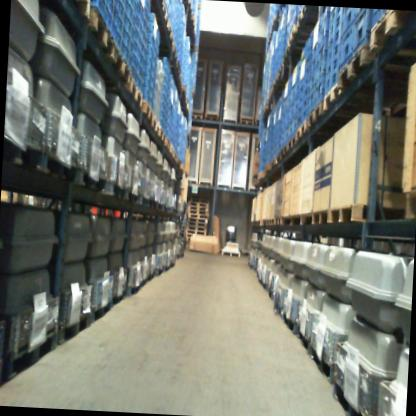pallet: (3, 327, 58, 385), (328, 201, 403, 227), (336, 42, 376, 89), (84, 5, 117, 58), (2, 134, 45, 174), (369, 8, 408, 50), (331, 378, 373, 416), (57, 308, 91, 352), (43, 152, 81, 184), (307, 343, 335, 383), (79, 164, 111, 193), (111, 44, 132, 83), (322, 81, 345, 112), (122, 77, 143, 106), (287, 23, 310, 47), (90, 299, 112, 324), (307, 100, 327, 127), (296, 5, 318, 27), (280, 309, 297, 335), (295, 325, 310, 353), (403, 189, 416, 221), (139, 99, 155, 122), (70, 0, 90, 18), (110, 180, 127, 199), (295, 119, 310, 140), (111, 287, 126, 308), (312, 208, 329, 225), (126, 279, 142, 296), (126, 188, 141, 205), (160, 3, 170, 28), (221, 245, 240, 257), (150, 116, 161, 136), (166, 22, 175, 46), (282, 46, 292, 64), (287, 134, 297, 149), (279, 143, 288, 159), (273, 301, 282, 317), (175, 60, 182, 79), (185, 225, 207, 231), (187, 201, 208, 207), (187, 205, 208, 211), (187, 213, 208, 219), (187, 217, 208, 223), (185, 229, 206, 235), (190, 197, 210, 203), (171, 44, 178, 61), (187, 209, 209, 214), (186, 221, 207, 226), (277, 61, 283, 77), (163, 137, 170, 150), (239, 119, 254, 125), (181, 84, 187, 99), (160, 128, 166, 142), (273, 216, 282, 225), (264, 162, 272, 172), (168, 144, 175, 155), (204, 116, 219, 121), (270, 157, 277, 167), (257, 171, 265, 179), (191, 114, 202, 119), (186, 103, 190, 115), (187, 179, 196, 184), (268, 218, 274, 225), (179, 163, 184, 171), (176, 158, 181, 166), (172, 153, 177, 161), (159, 0, 164, 6), (185, 233, 192, 237), (254, 121, 259, 126), (265, 218, 269, 224), (185, 240, 189, 245), (185, 244, 189, 249), (185, 237, 190, 240)
small_load_carrier: (350, 8, 373, 57), (337, 24, 353, 74), (339, 7, 353, 43), (353, 8, 367, 25)
